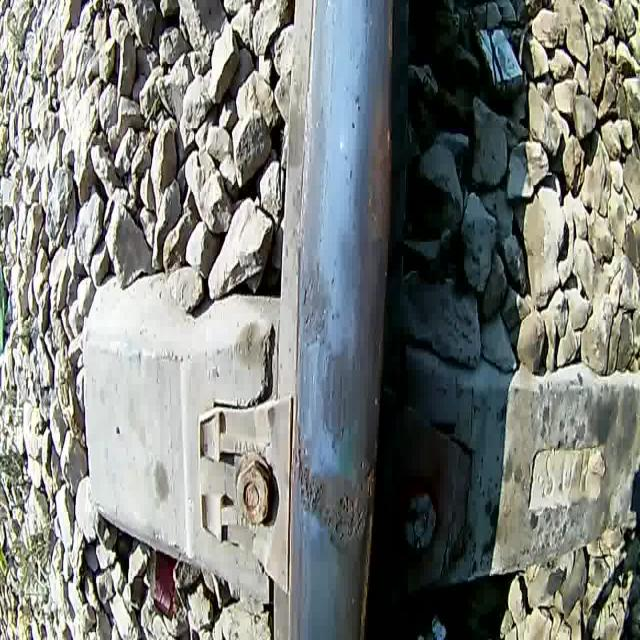Spallings: (294, 420, 326, 521), (330, 484, 365, 546), (359, 457, 377, 501)
Squats: (331, 0, 398, 640), (292, 420, 382, 563), (315, 340, 370, 456), (296, 264, 334, 354)
